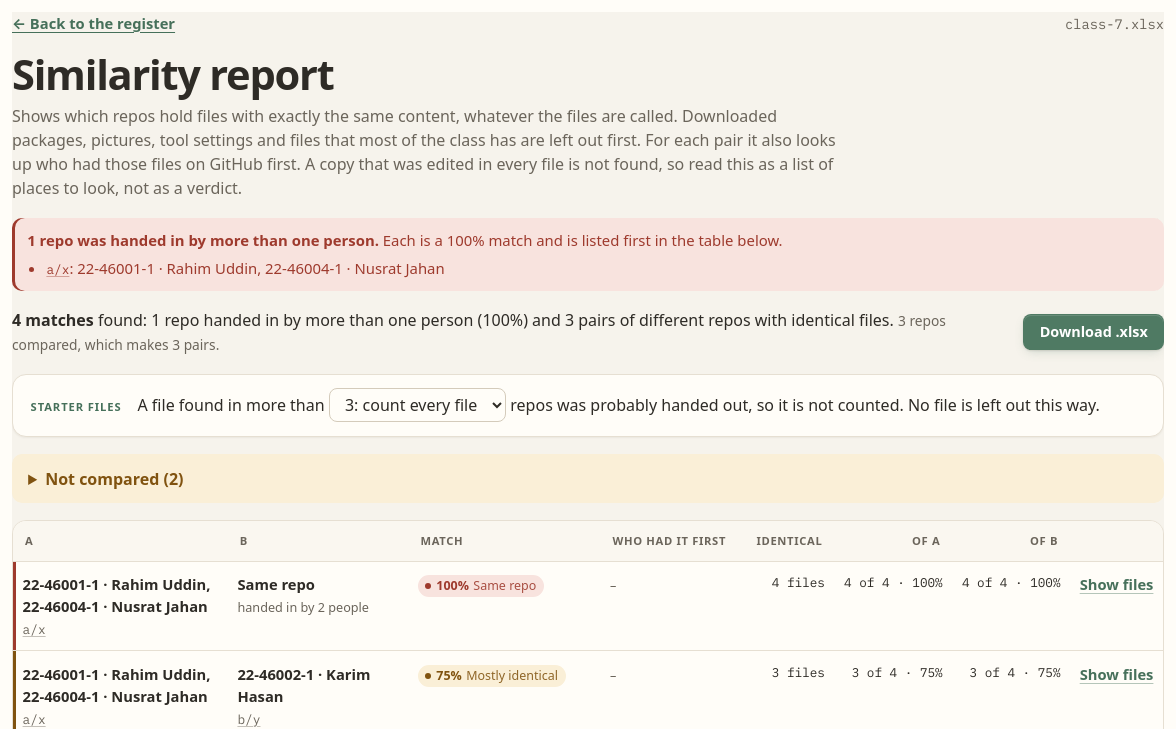
SimilarityView › stops counting a file once more repos have it than the chosen limit
Expected: the text "No file is left out this way" is shown, [908, 394, 1100, 416]
Select "2" in the dropdown labelled "Starter files". click: [418, 405]
box: [329, 388, 506, 422]
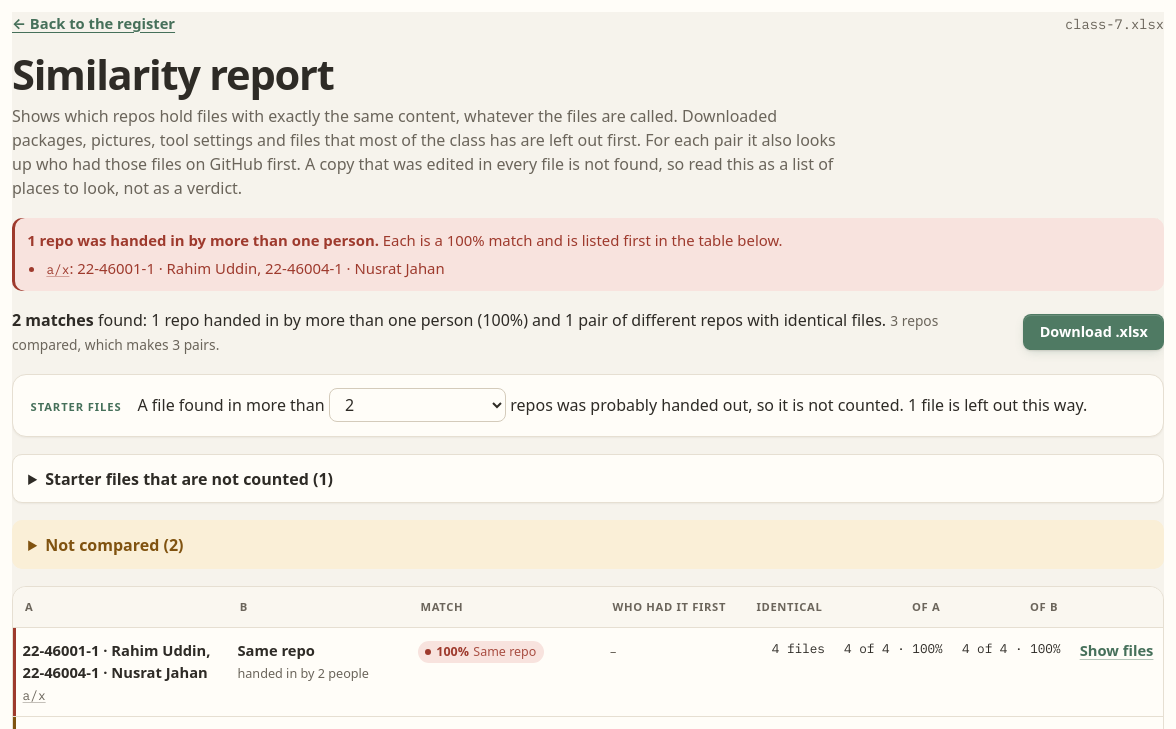
Result: the text "1 file is left out this way" is shown at [908, 394, 1087, 416]
